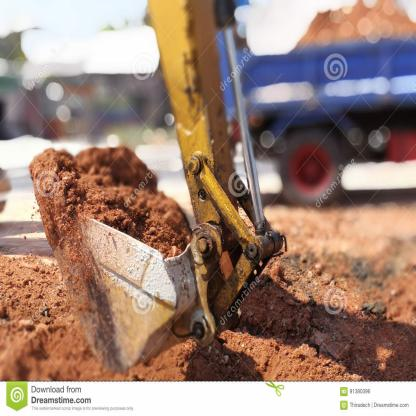excavator: (21, 4, 289, 378)
